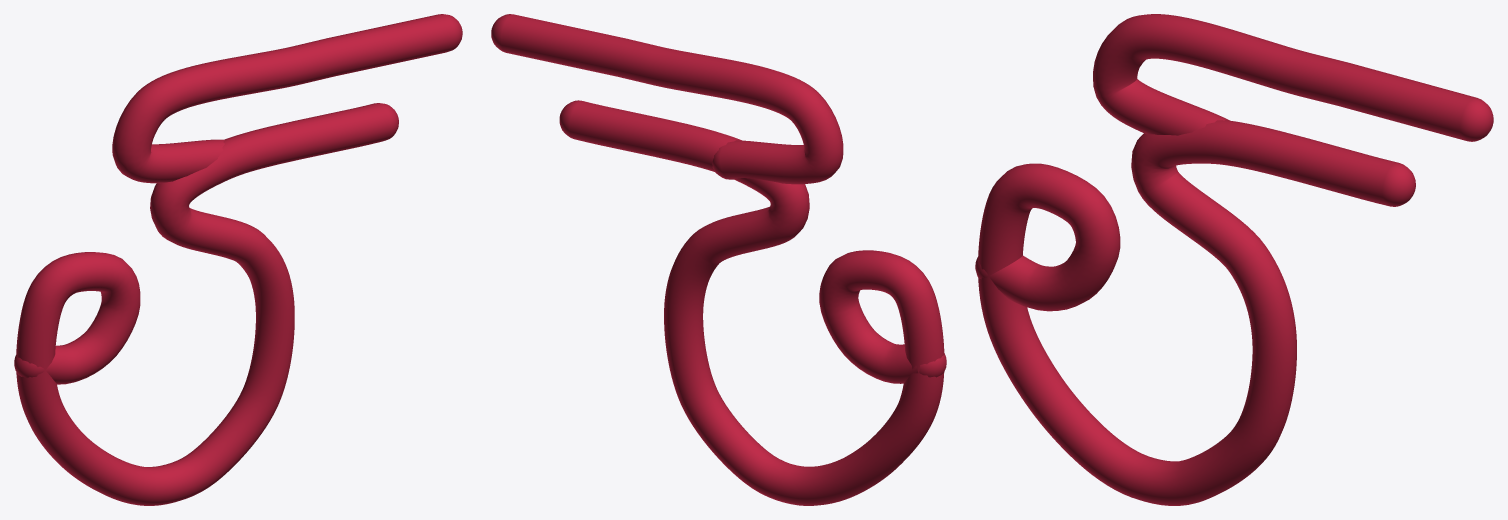
File: la_teligu.fbx
3 renders of one model, left to right at view 1: azimuth 30°, elevation 25°; view 2: azimuth 150°, elevation 25°; view 3: azimuth 330°, elevation 25°, orthographic. The views are drawn at different scales.
Parts seen in each view (by area): view 1: root (×2); view 2: root (×2); view 3: root (×2).
Part boxes in pixels (x1,y1,x2,y2): root (×2): (14,14,462,505); root (×2): (491,14,946,505); root (×2): (975,14,1493,505).
Size of the model in its own units: 0.786 by 0.7168 by 0.0658.
